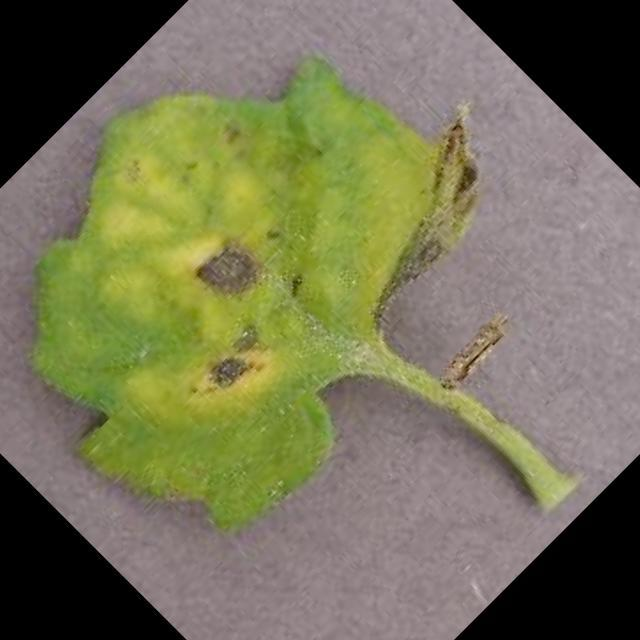Tomato Septoria spot leaf: (0, 0, 572, 592)
